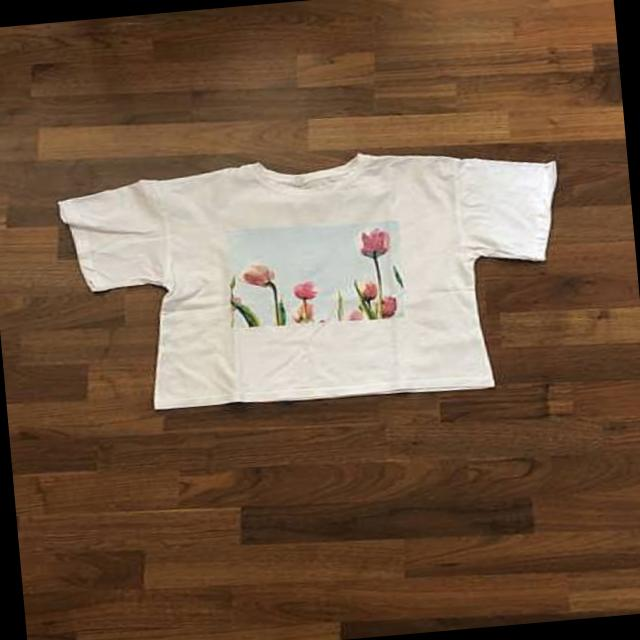T_SHIRT: (44, 128, 586, 442)
